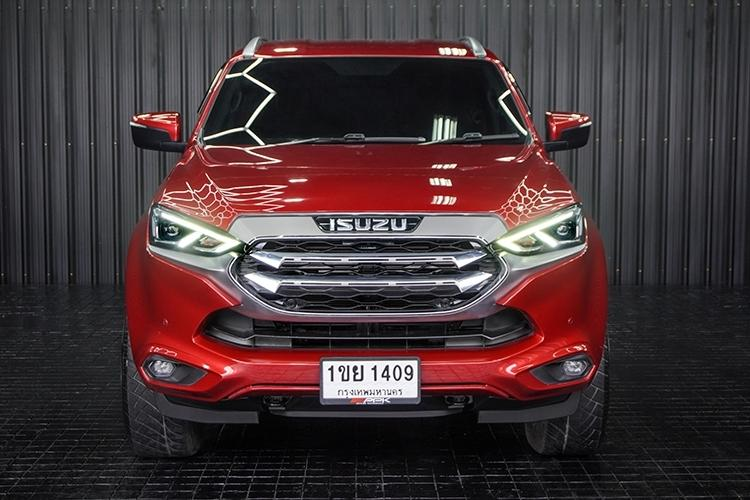license-plate: (318, 354, 423, 407)
